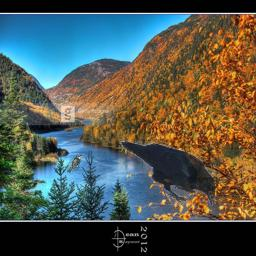Crow: (120, 141, 215, 206)
Cuckoo: (67, 155, 82, 173)
